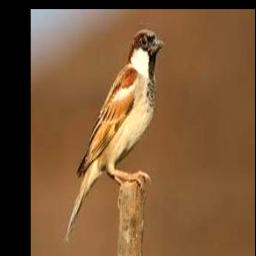Sparrow: (64, 29, 164, 244)
